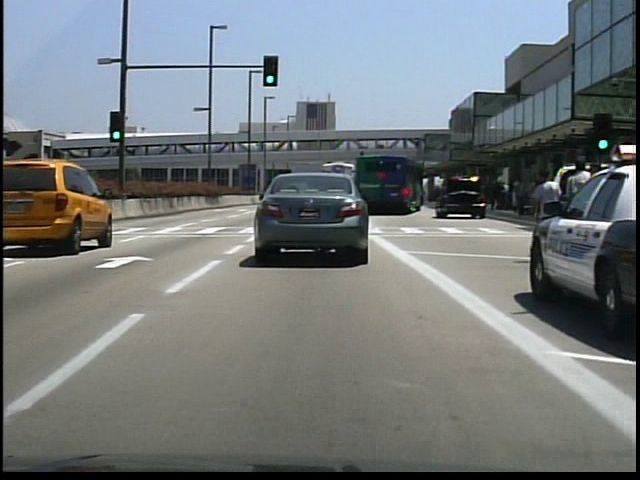person: (563, 153, 598, 271), (525, 162, 565, 265), (27, 167, 44, 227), (47, 170, 68, 218)
